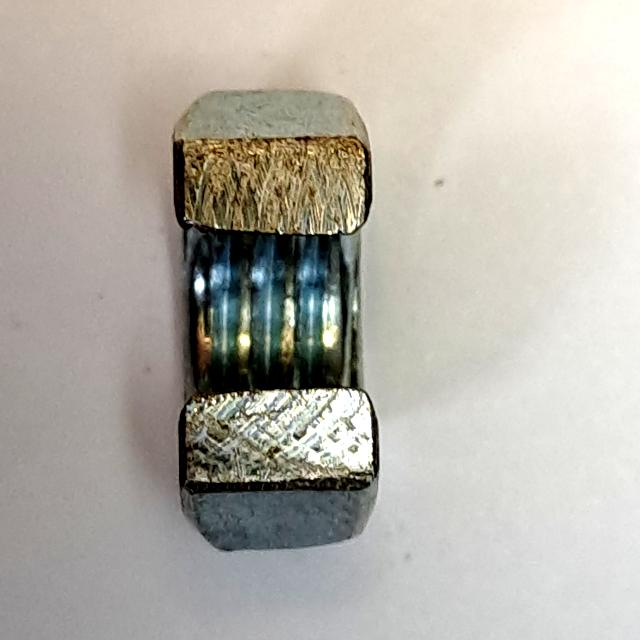Side-Fracture: (160, 79, 402, 573)
